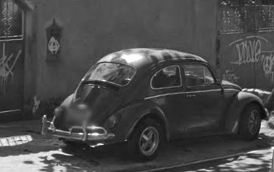car: (41, 48, 268, 161)
